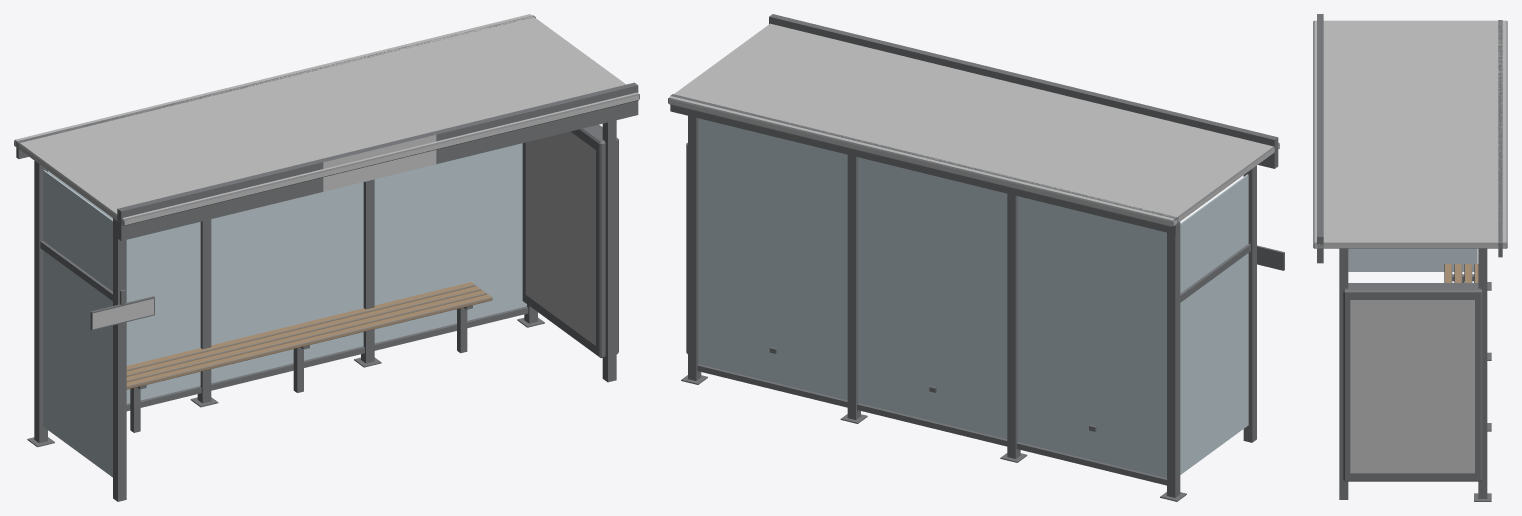
The model's file is bus_stop_shelter.glb.
3 views of the same model, side by side, from view 1: azimuth 30°, elevation 25°; view 2: azimuth 150°, elevation 25°; view 3: azimuth 270°, elevation 25° (orthographic). The views are drawn at different scales.
Visible parts, largest first — view 1: bus_stop_shelter; view 2: bus_stop_shelter; view 3: bus_stop_shelter.
Part boxes in pixels (x1,y1,x2,y2): bus_stop_shelter: [14, 14, 639, 501]; bus_stop_shelter: [668, 14, 1284, 501]; bus_stop_shelter: [1313, 14, 1507, 501].
Bounding box in the file's own units: 4.91 × 2.65 × 1.75.
